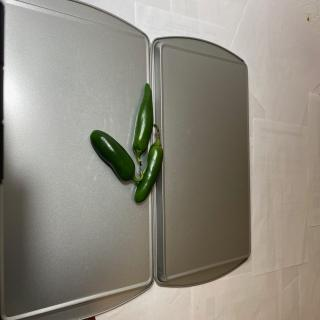Chilli: (89, 129, 143, 183), (132, 82, 153, 166)
